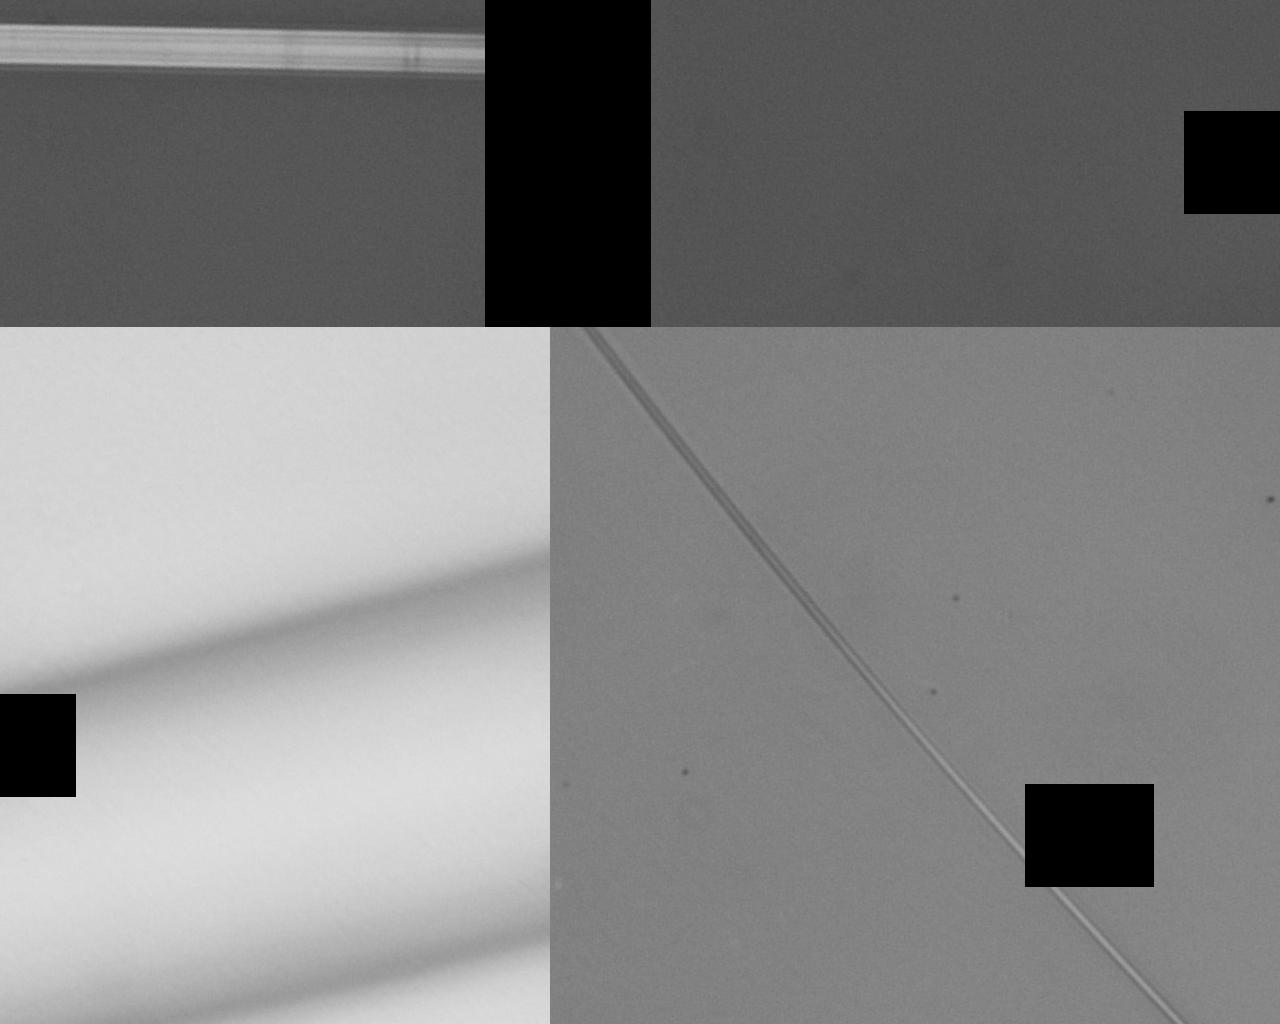fiber: (0, 136, 627, 491), (627, 0, 1280, 245), (627, 787, 1280, 1024), (5, 789, 627, 894)
